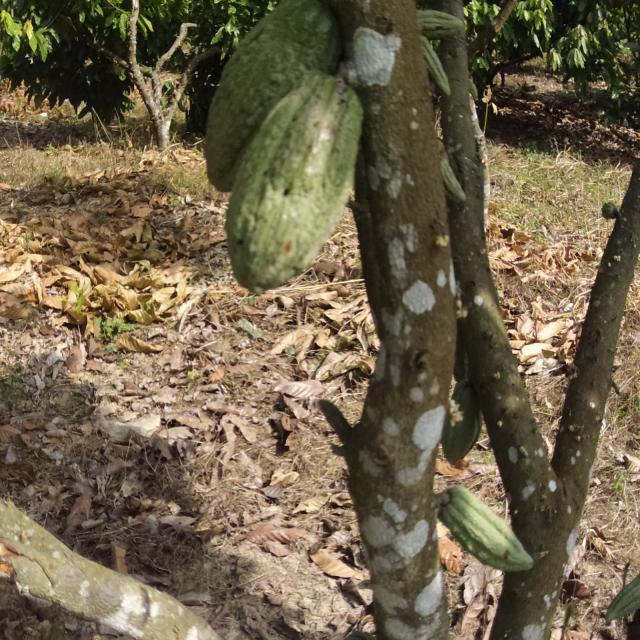Immature: (430, 483, 543, 588), (407, 7, 482, 115)
Mature_Unripe: (183, 3, 376, 305)
